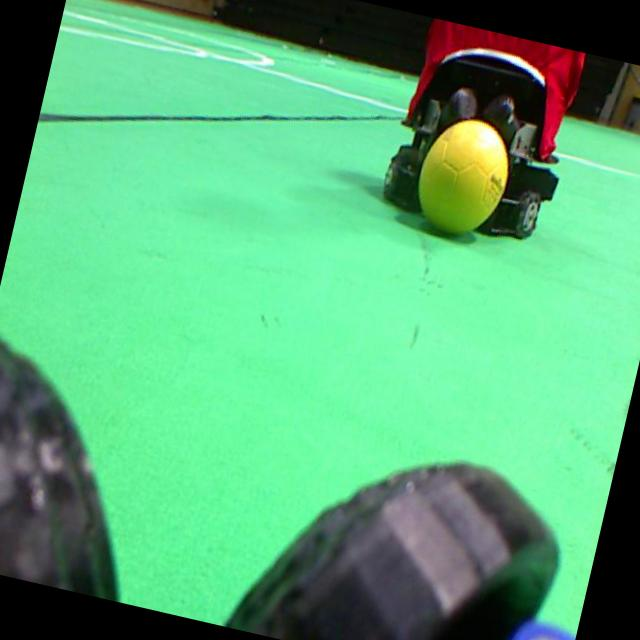ball: (418, 119, 507, 232)
